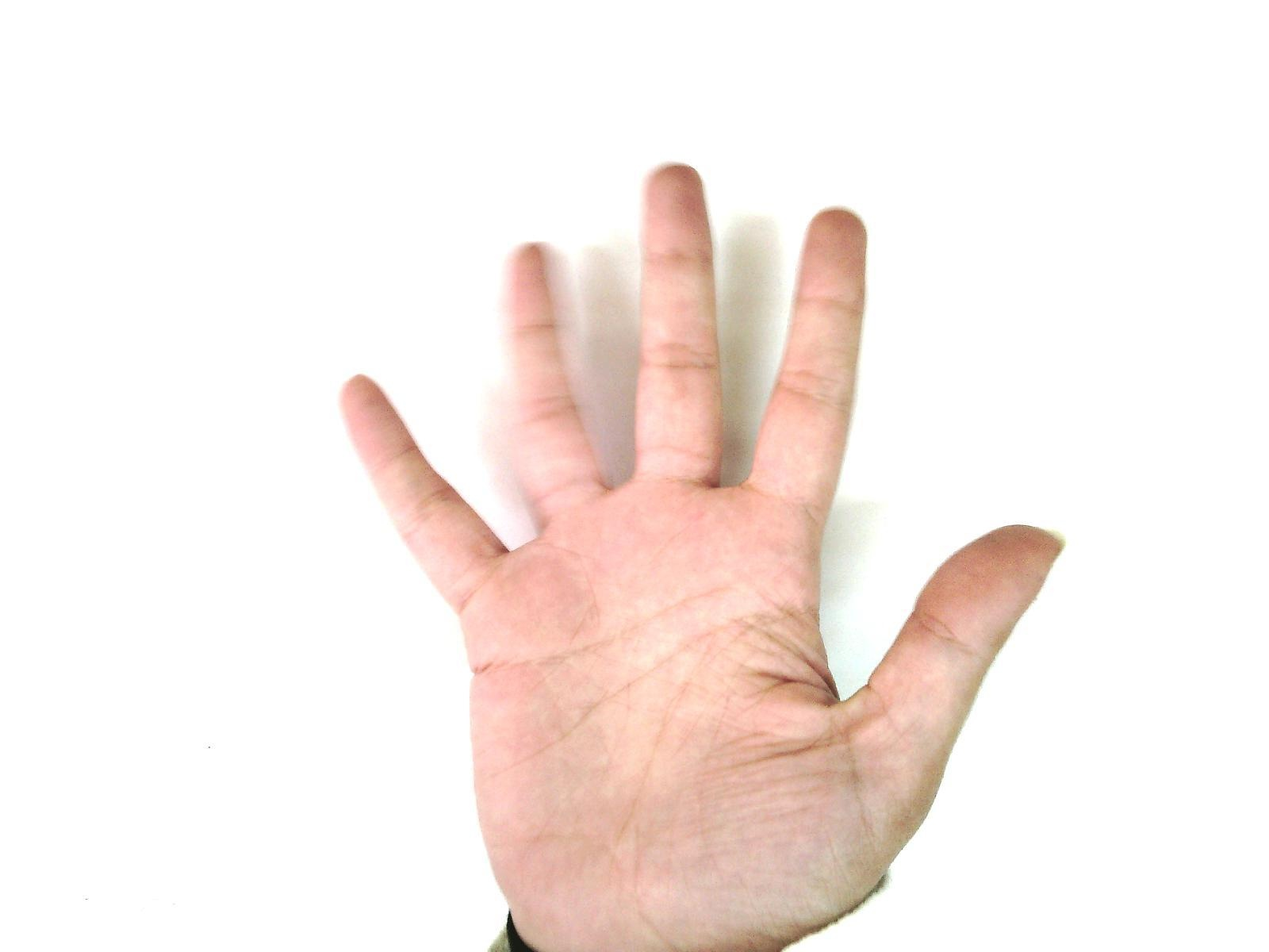open_palm: (335, 161, 1067, 951)
